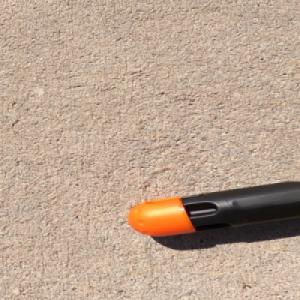PlasticPart: (126, 179, 300, 238)
